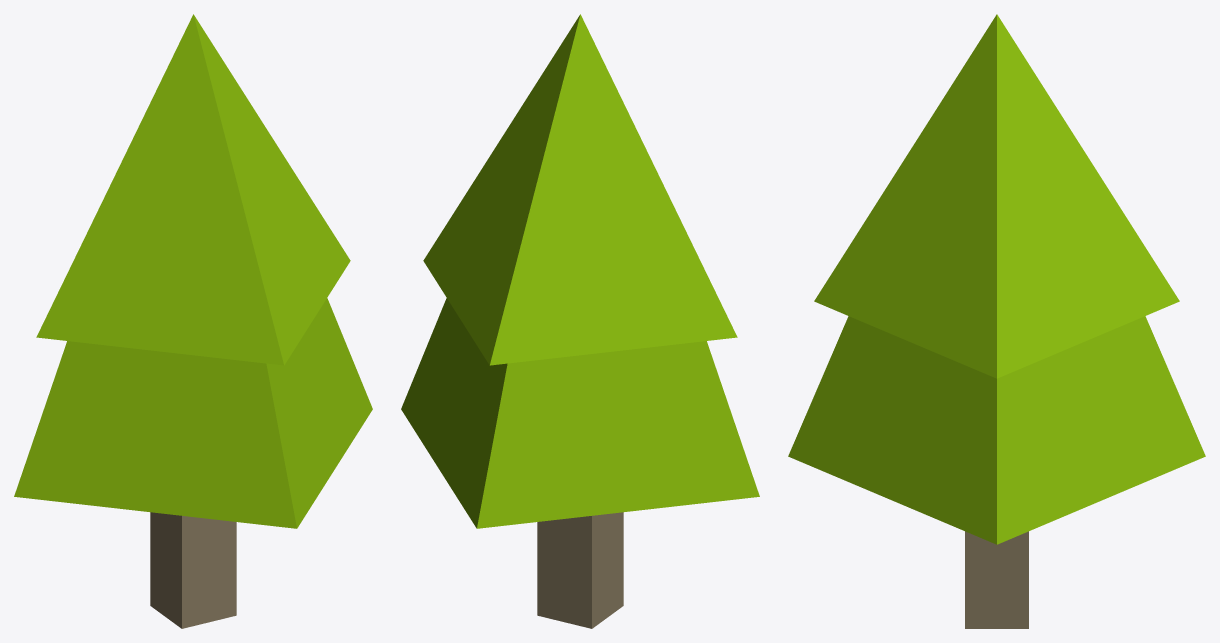
Rendered from pine_14.fbx.
3 views of the same model, side by side, from view 1: azimuth 30°, elevation 25°; view 2: azimuth 150°, elevation 25°; view 3: azimuth 270°, elevation 25° (orthographic).
Parts seen in each view (by area): view 1: pine_14; view 2: pine_14; view 3: pine_14.
Part boxes in pixels (<box>): pine_14: <box>14,14,372,628</box>; pine_14: <box>401,14,759,628</box>; pine_14: <box>788,14,1205,628</box>.
Bounding box in the file's own units: 79.27 × 126 × 79.27.
